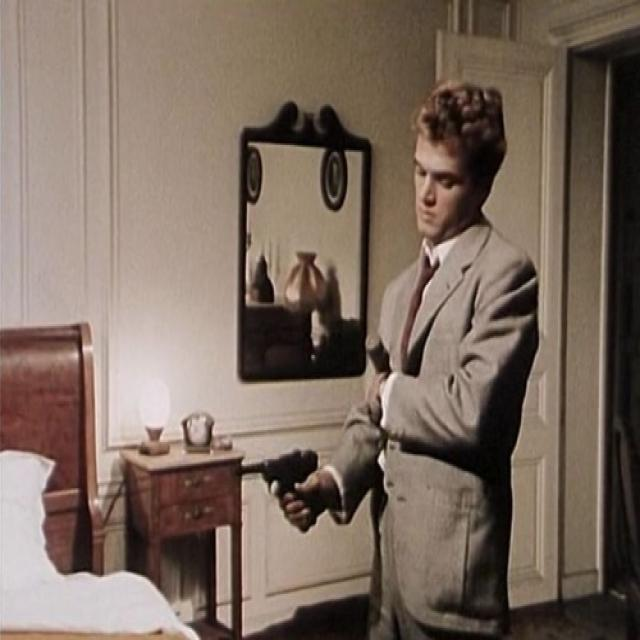weapons: (228, 435, 346, 538)
